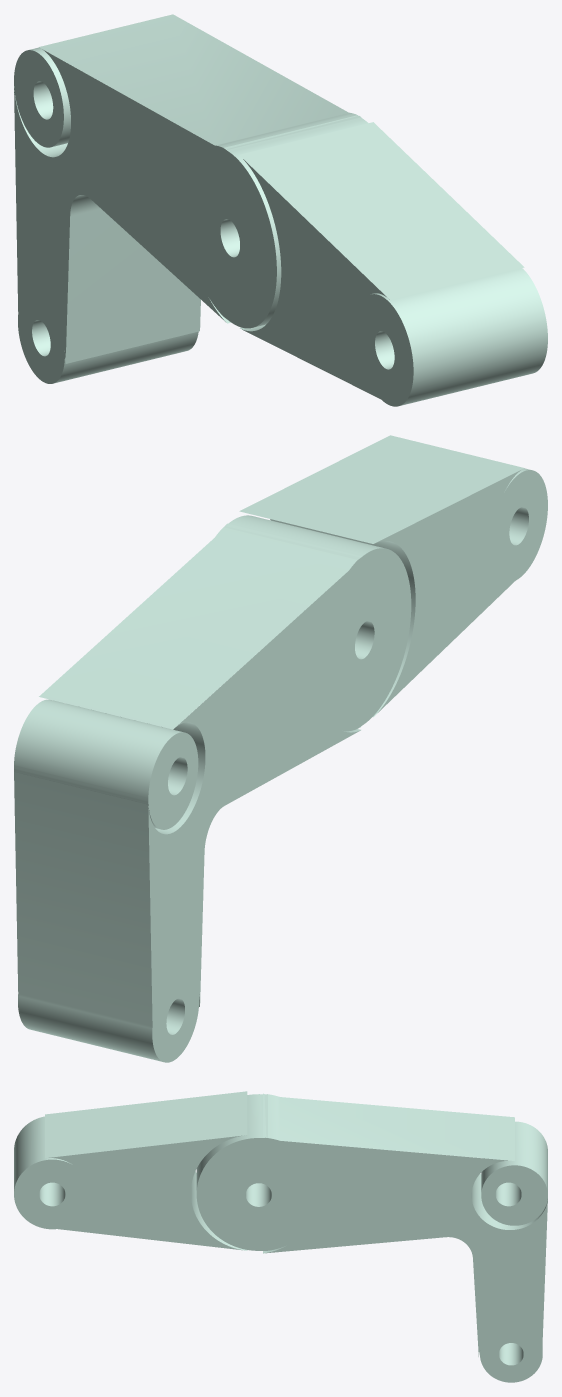
3 views of the same model, one above another, from view 1: azimuth 30°, elevation 25°; view 2: azimuth 150°, elevation 25°; view 3: azimuth 270°, elevation 25° (orthographic). The views are drawn at different scales.
Visible parts, largest first — view 1: Renderer Node; view 2: Renderer Node; view 3: Renderer Node.
Part boxes in pixels (x1,y1,x2,y2): Renderer Node: (14,14,547,406); Renderer Node: (14,435,547,1062); Renderer Node: (14,1091,547,1382).
Bounding box in the file's own units: 0.1563 × 0.4117 × 0.8047.
